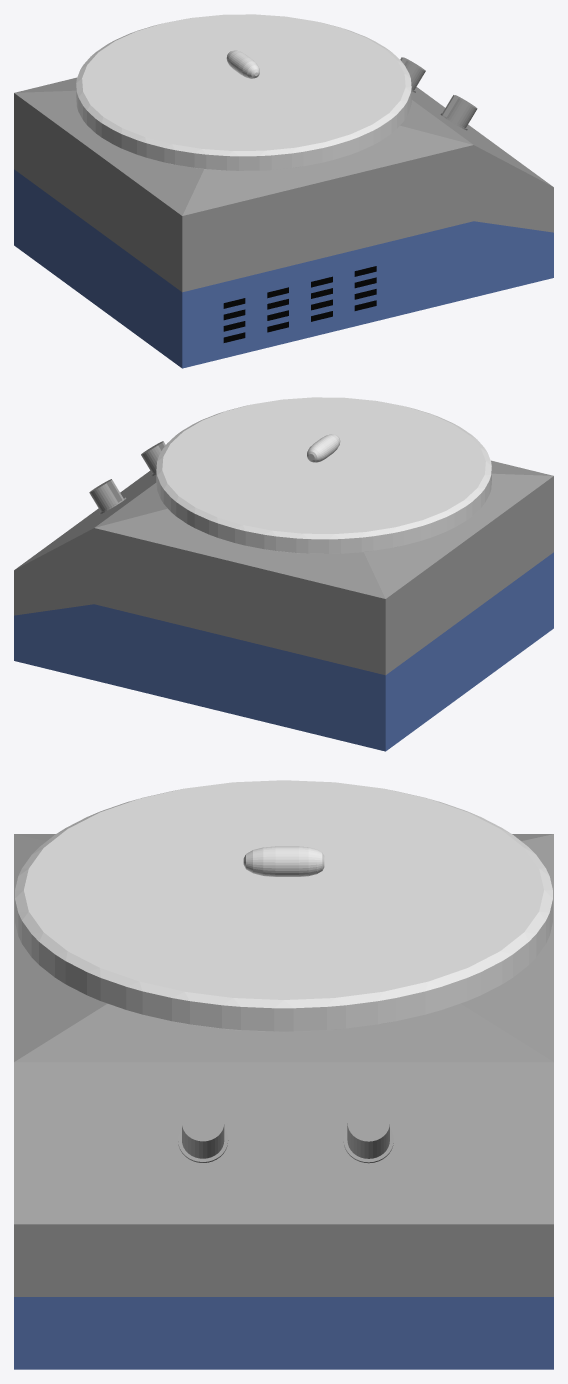
File: hotplateMixerSpin.fbx
3 renders of one model, top to bottom at view 1: azimuth 30°, elevation 25°; view 2: azimuth 150°, elevation 25°; view 3: azimuth 270°, elevation 25°, orthographic. The views are drawn at different scales.
Visible parts, largest first — view 1: hotplate, left knob, Cylinder; view 2: hotplate, right knob, Cylinder; view 3: hotplate, right knob, left knob, Cylinder.
Boxes of the visible parts, left/top/right/bottom form: hotplate: left=14, top=14, right=553, bottom=368; left knob: left=440, top=95, right=477, bottom=130; Cylinder: left=226, top=50, right=259, bottom=78; hotplate: left=14, top=397, right=553, bottom=751; right knob: left=89, top=479, right=126, bottom=514; Cylinder: left=307, top=434, right=340, bottom=462; hotplate: left=14, top=780, right=553, bottom=1369; right knob: left=343, top=1099, right=393, bottom=1163; left knob: left=178, top=1099, right=228, bottom=1162; Cylinder: left=243, top=846, right=324, bottom=876.
Bounding box in the file's own units: 255 × 141 × 200.
